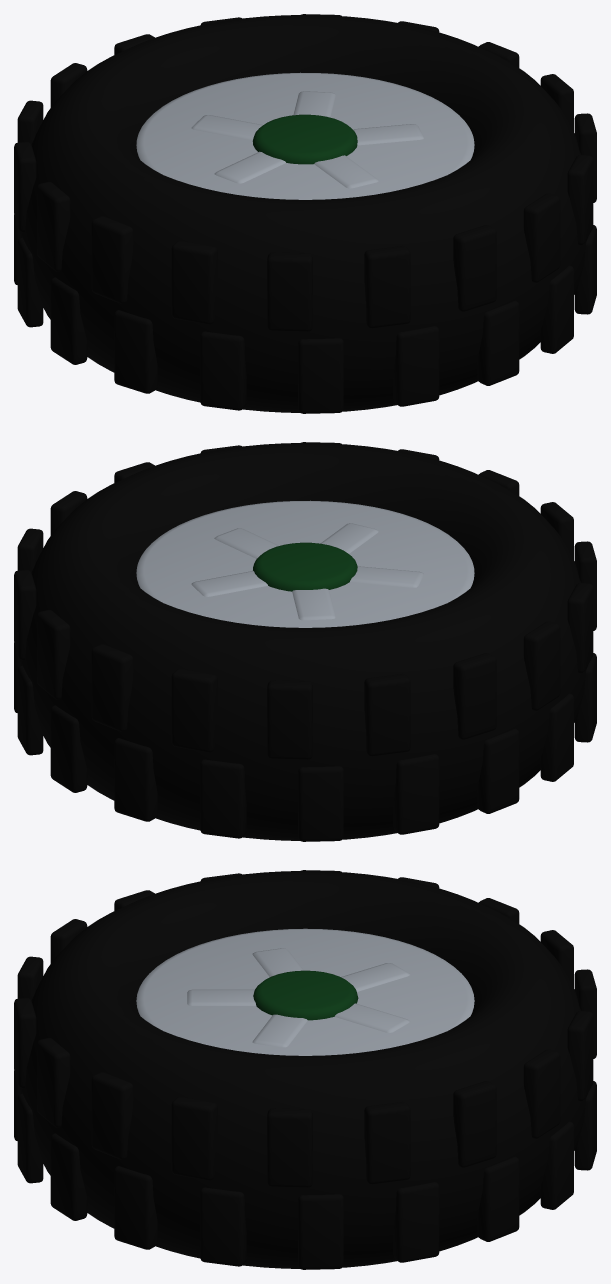
The model's file is wheel.obj.
3 views of the same model, one above another, from view 1: azimuth 30°, elevation 25°; view 2: azimuth 150°, elevation 25°; view 3: azimuth 270°, elevation 25° (orthographic).
Parts seen in each view (by area): view 1: tyre, tread, rim, hub, spoke.004, spoke, spoke.001, spoke.003, spoke.002; view 2: tyre, tread, rim, hub, spoke.002, spoke.003, spoke.004, spoke.001, spoke; view 3: tyre, tread, rim, hub, spoke.002, spoke.001, spoke, spoke.003, spoke.004.
Boxes of the visible parts, x1,y1,x2,y2 form: tyre: (20, 15, 588, 412); tread: (14, 14, 596, 413); rim: (136, 72, 474, 199); hub: (252, 114, 357, 164); spoke.004: (214, 151, 285, 183); spoke: (314, 155, 378, 188); spoke.001: (353, 124, 423, 145); spoke.003: (191, 115, 262, 140); spoke.002: (293, 91, 335, 117); tyre: (20, 443, 588, 840); tread: (14, 442, 596, 841); rim: (136, 500, 474, 627); hub: (253, 542, 357, 591); spoke.002: (191, 571, 267, 596); spoke.003: (292, 588, 335, 620); spoke.004: (350, 566, 423, 587); spoke.001: (214, 528, 278, 558); spoke: (320, 523, 378, 553); tyre: (20, 871, 588, 1268); tread: (14, 870, 596, 1269); rim: (136, 928, 474, 1055); hub: (253, 970, 358, 1020); spoke.002: (334, 1003, 410, 1032); spoke.001: (252, 1014, 307, 1047); spoke: (187, 989, 256, 1005); spoke.003: (341, 963, 409, 991); spoke.004: (252, 948, 303, 976).
Size of the model in its own units: 0.3867 by 0.15 by 0.3861.
